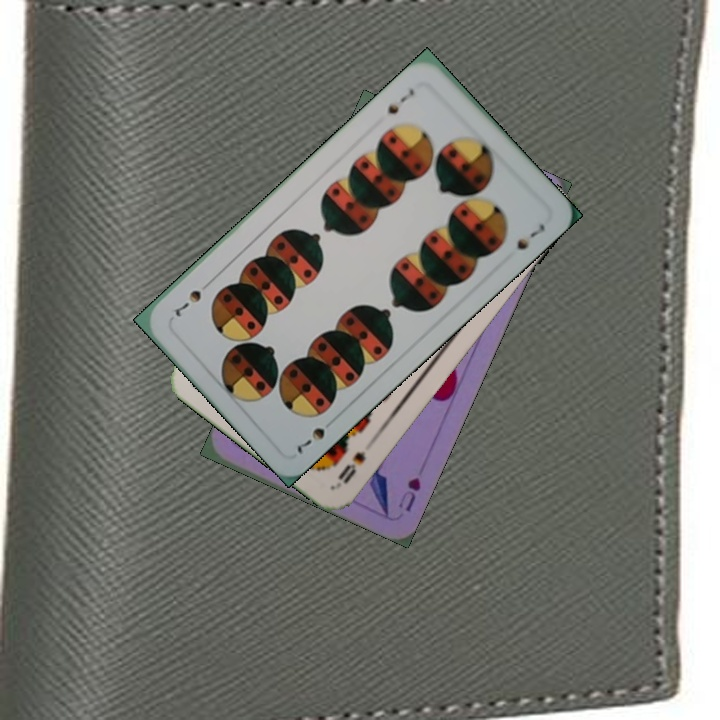HU: (394, 473, 424, 515)
S7: (292, 413, 339, 458), (380, 84, 417, 119)
S8: (333, 447, 369, 489)
